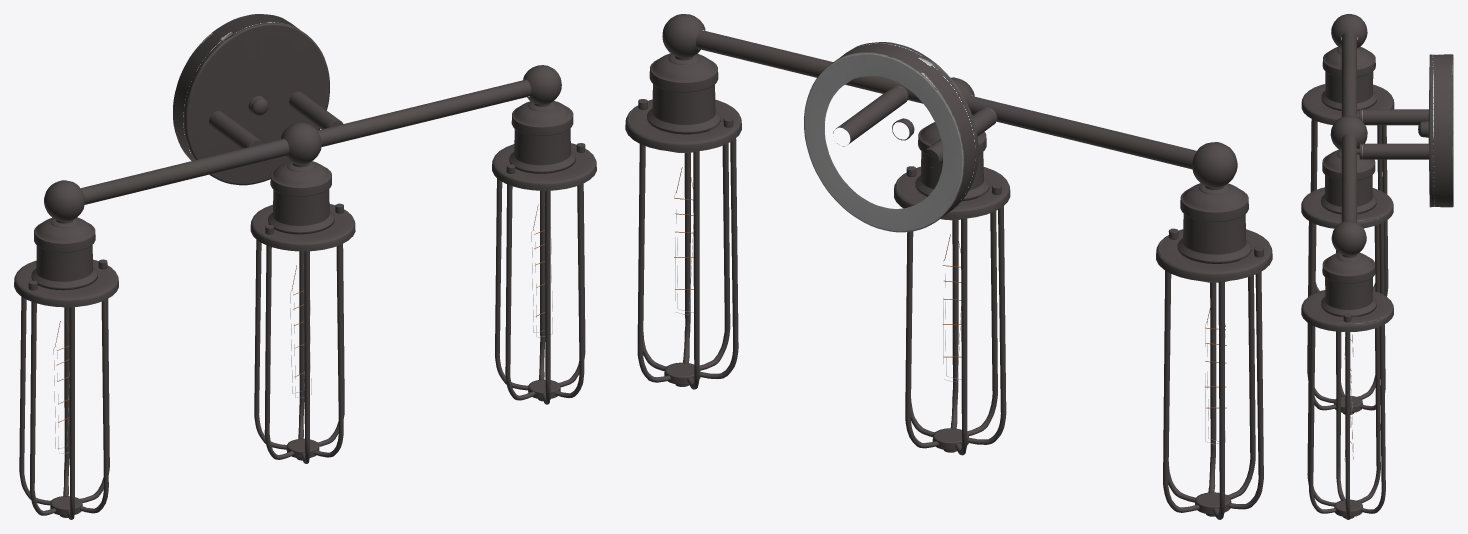
File: abo-B07B4YRZ1D.glb
3 views of the same model, side by side, from view 1: azimuth 30°, elevation 25°; view 2: azimuth 150°, elevation 25°; view 3: azimuth 270°, elevation 25° (orthographic). The views are drawn at different scales.
Size of the model in its own units: 0.578 by 0.387 by 0.152.
Materials: 1 (1 with a texture image).
